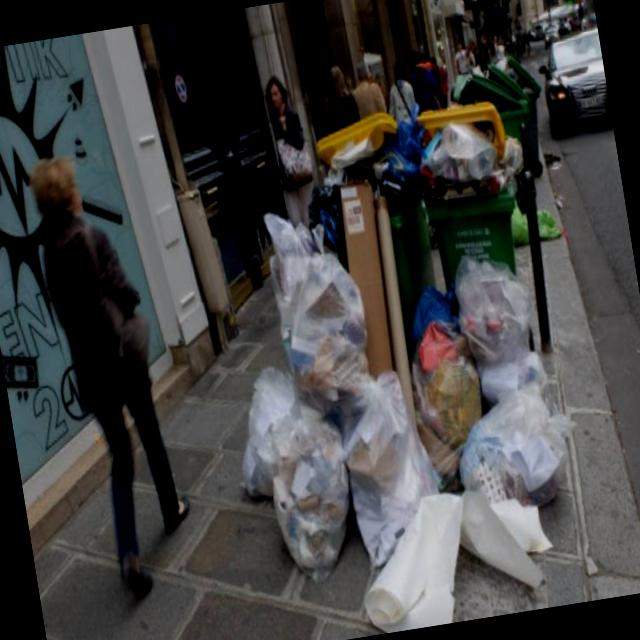garbage: (230, 59, 640, 606)
